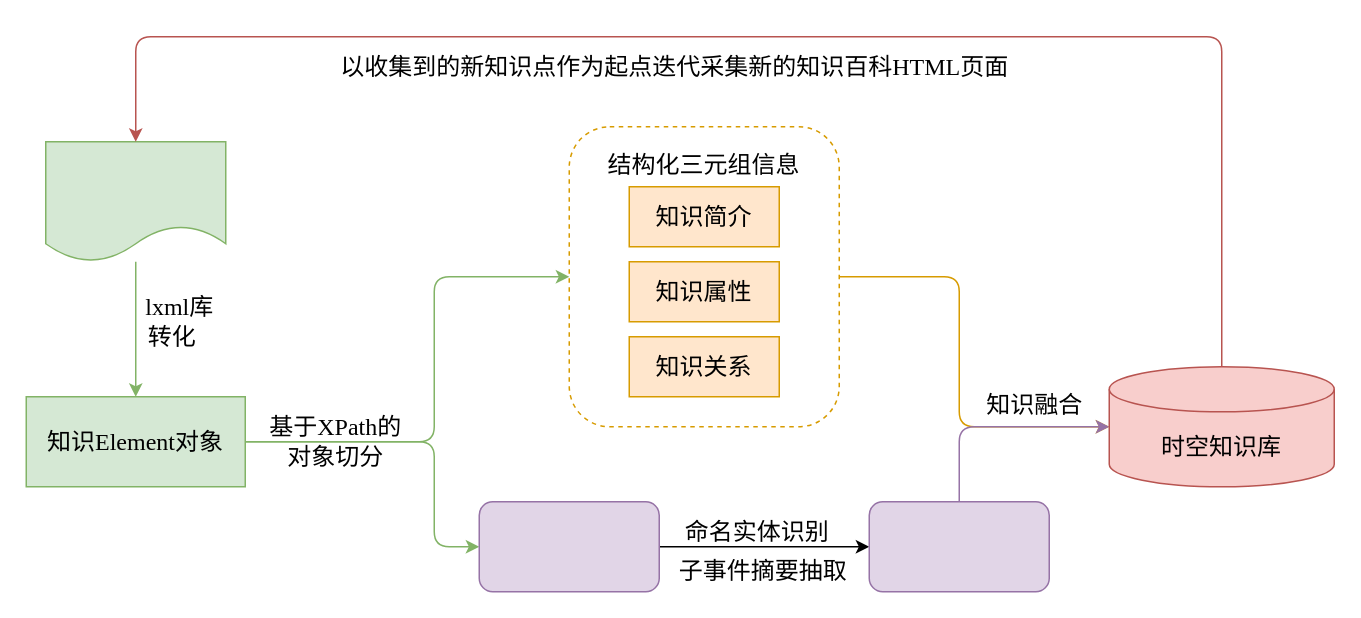
The diagram is 1361 pixels wide and 618 high, and some of its shapes have lost their labels. The box of each missing label's shape, as (x1, y1, x2, y2) in pixels:
时空知识网络: (868, 500, 1049, 592)
知识百科HTML: (44, 140, 226, 262)
非结构化的 知识描述信息: (478, 500, 659, 592)
